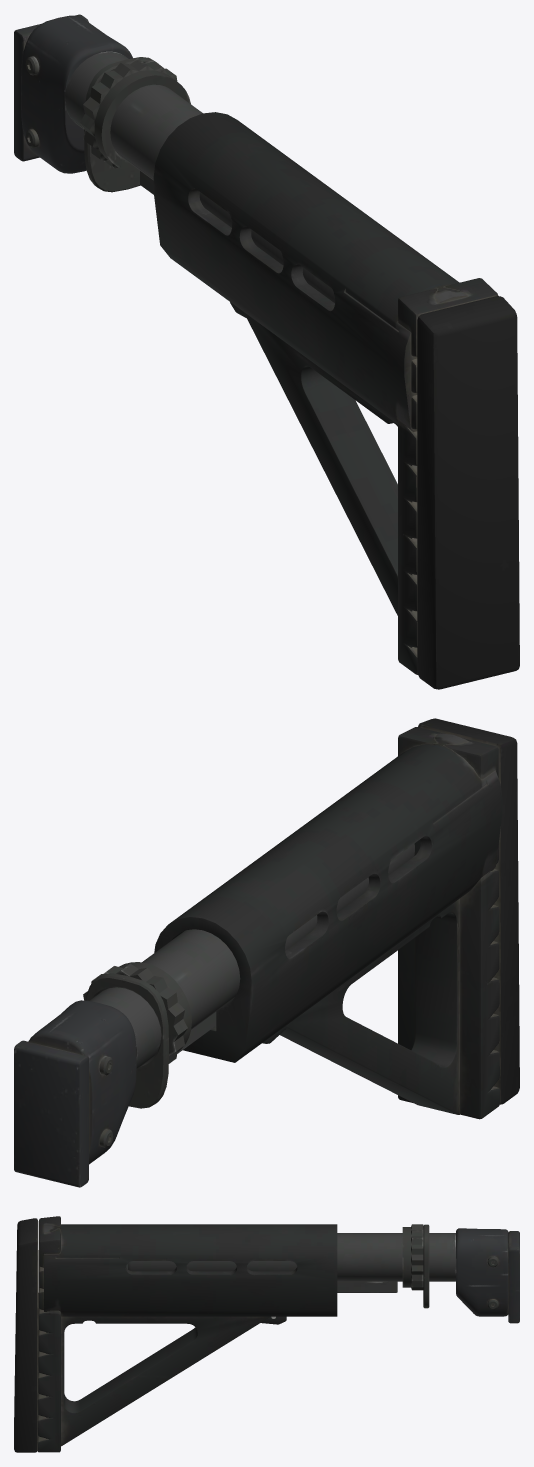
Rendered from coronha_leve_ak.glb.
The picture shows the model from 3 angles, top to bottom: view 1: azimuth 30°, elevation 25°; view 2: azimuth 150°, elevation 25°; view 3: azimuth 270°, elevation 25°; orthographic projection. The views are drawn at different scales.
Visible parts, largest first — view 1: coronha_leve_ak_coronha, coronha_leve_ak_adaptador, coronha_leve_ak_tubo_coronha, coronha_leve_ak_porca_castelo, coronha_leve_ak_placa_traseira; view 2: coronha_leve_ak_coronha, coronha_leve_ak_adaptador, coronha_leve_ak_tubo_coronha, coronha_leve_ak_placa_traseira, coronha_leve_ak_porca_castelo; view 3: coronha_leve_ak_coronha, coronha_leve_ak_tubo_coronha, coronha_leve_ak_adaptador, coronha_leve_ak_porca_castelo, coronha_leve_ak_placa_traseira.
Boxes of the visible parts, x1,y1,x2,y2 form: coronha_leve_ak_coronha: (153, 112, 519, 689); coronha_leve_ak_adaptador: (14, 14, 132, 173); coronha_leve_ak_tubo_coronha: (64, 51, 335, 302); coronha_leve_ak_porca_castelo: (80, 58, 190, 172); coronha_leve_ak_placa_traseira: (84, 57, 158, 192); coronha_leve_ak_coronha: (154, 718, 519, 1119); coronha_leve_ak_adaptador: (14, 1000, 136, 1187); coronha_leve_ak_tubo_coronha: (89, 843, 414, 1069); coronha_leve_ak_placa_traseira: (85, 973, 168, 1108); coronha_leve_ak_porca_castelo: (83, 962, 191, 1063); coronha_leve_ak_coronha: (14, 1216, 337, 1452); coronha_leve_ak_tubo_coronha: (128, 1233, 456, 1292); coronha_leve_ak_adaptador: (456, 1228, 519, 1323); coronha_leve_ak_porca_castelo: (402, 1224, 423, 1290); coronha_leve_ak_placa_traseira: (423, 1224, 429, 1308).
Bounding box in the file's own units: 0.0396 × 0.1413 × 0.302.
Materials: 1 (1 with a texture image).
